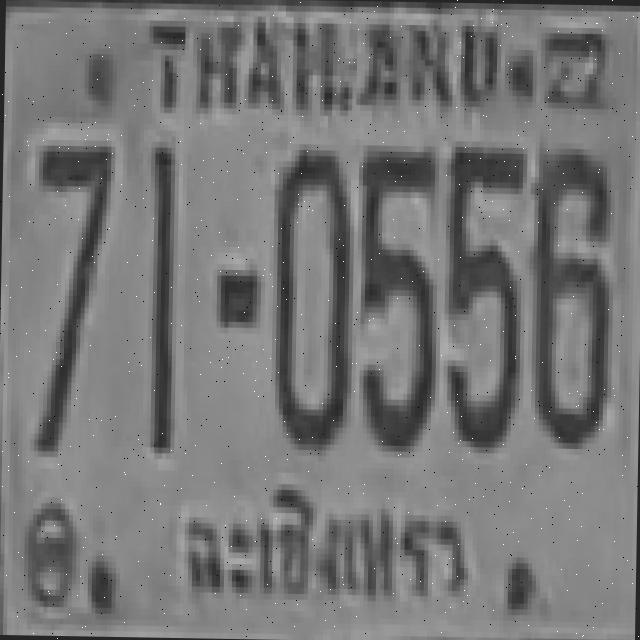0: (270, 143, 351, 444)
1: (146, 144, 175, 432)
5: (442, 140, 523, 448), (356, 145, 437, 446)
6: (526, 146, 611, 440)
7: (30, 139, 111, 446)
Chachoengsao: (164, 477, 480, 606)
